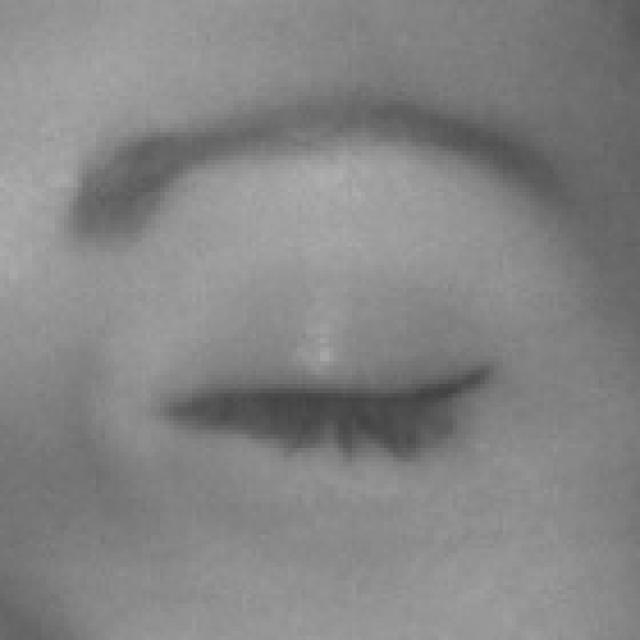Eyeclosed: (181, 248, 493, 558)
